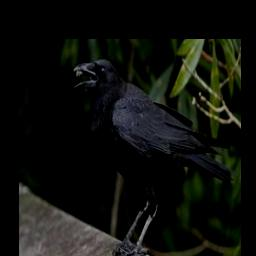Crow: (72, 57, 234, 256)
